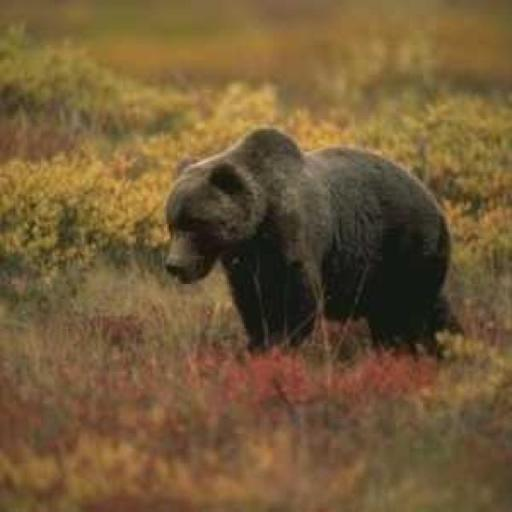Bear: (162, 125, 464, 363)
